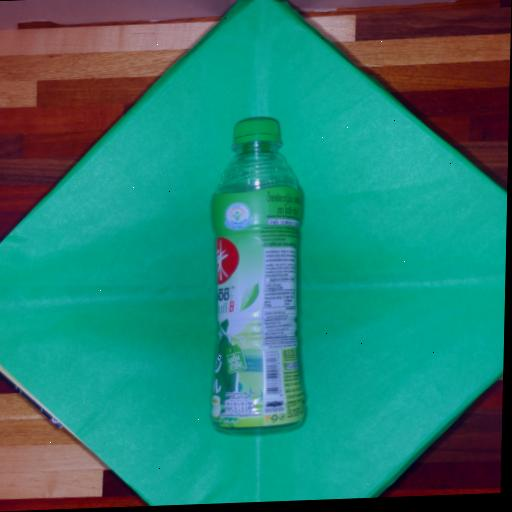bottle: (212, 117, 304, 430)
